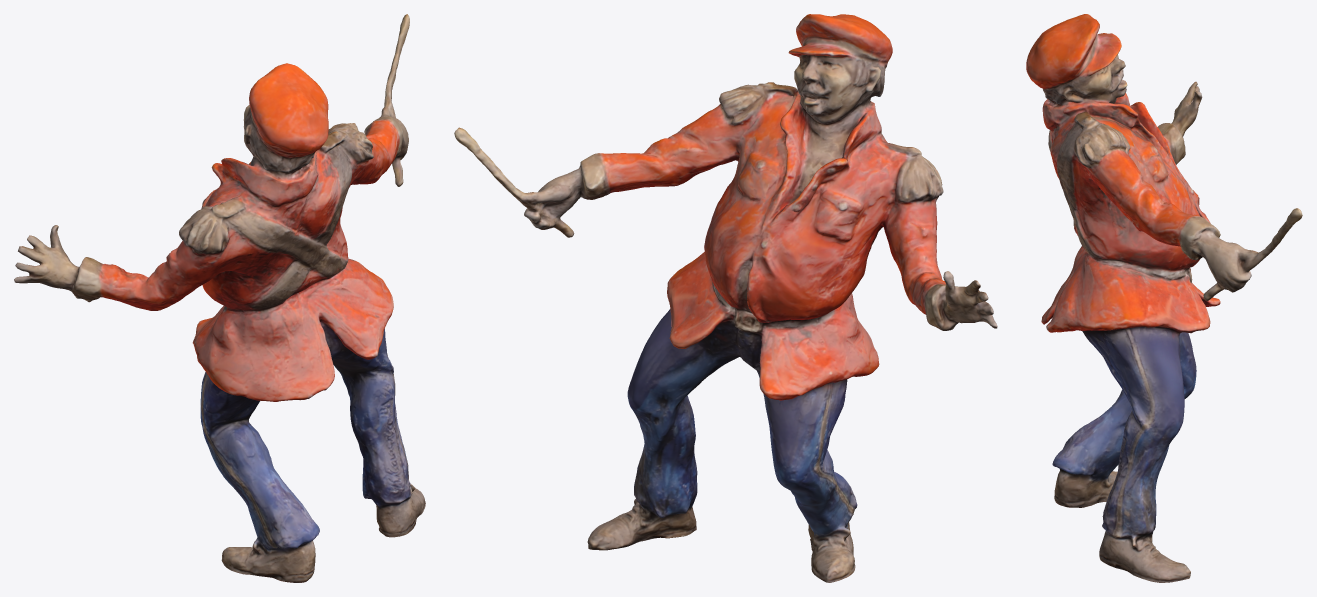
Rendered from khanna-kc-the-bandmaster.glb.
3 views of the same model, side by side, from view 1: azimuth 30°, elevation 25°; view 2: azimuth 150°, elevation 25°; view 3: azimuth 270°, elevation 25° (orthographic). The views are drawn at different scales.
Visible parts, largest first — view 1: Mesh_001; view 2: Mesh_001; view 3: Mesh_001.
Part boxes in pixels (x1,y1,x2,y2): Mesh_001: (14,14,425,582); Mesh_001: (454,14,997,582); Mesh_001: (1026,14,1302,582).
Size of the model in its own units: 38.67 by 41.21 by 21.5.
1 material, 1 textured.
